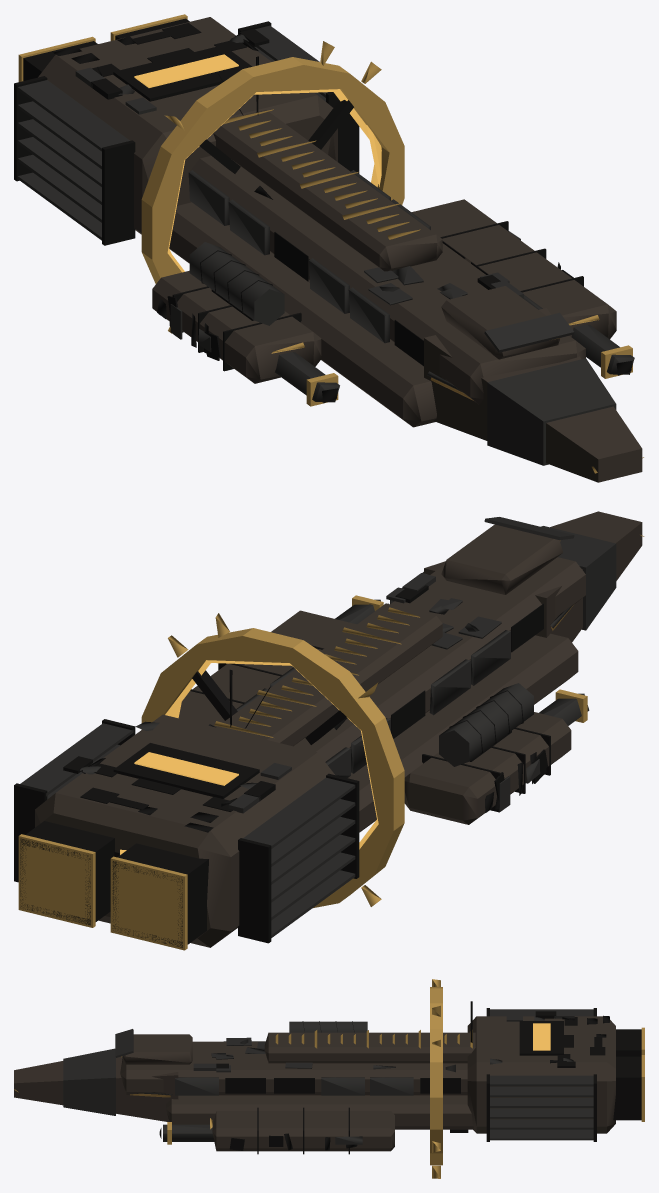
The model's file is goniec-wybudzeni-coalition-58-lod1.glb.
3 renders of one model, top to bottom at view 1: azimuth 30°, elevation 25°; view 2: azimuth 150°, elevation 25°; view 3: azimuth 270°, elevation 25°, orthographic. The views are drawn at different scales.
Bounding box in the file's own units: 5.12 × 4.22 × 13.94.
